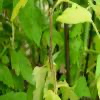Tomato mold leaf: (30, 62, 49, 90), (44, 65, 58, 87)
